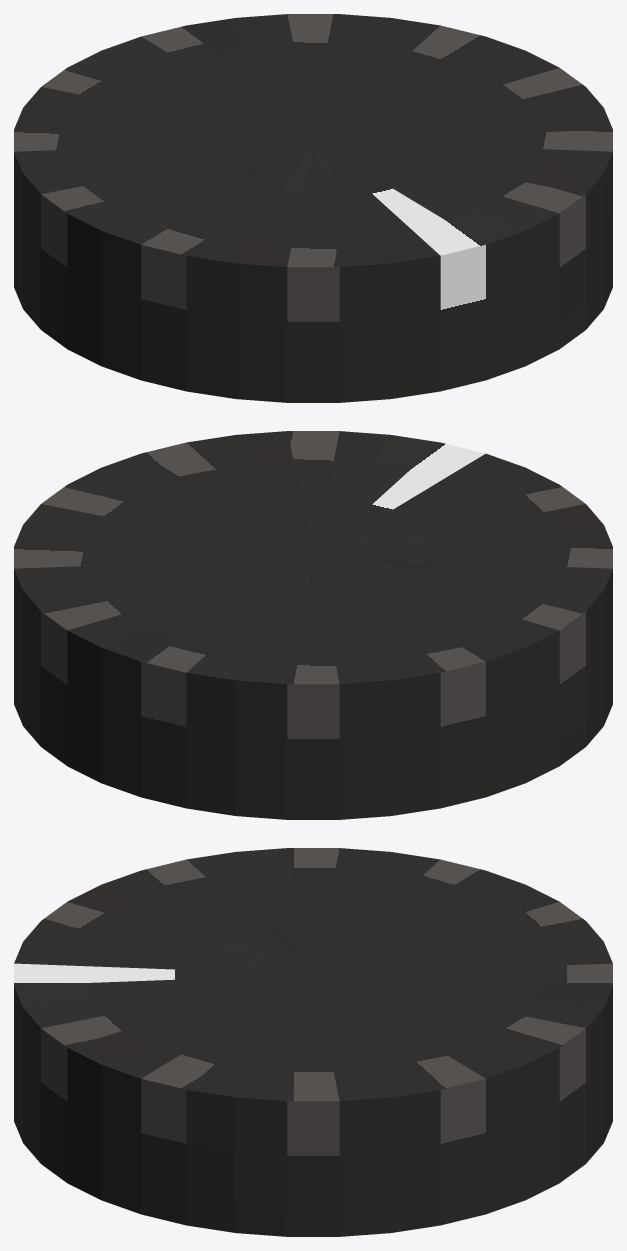
The model's file is small_wave_wheel.gltf.
3 renders of one model, top to bottom at view 1: azimuth 30°, elevation 25°; view 2: azimuth 150°, elevation 25°; view 3: azimuth 270°, elevation 25°, orthographic.
Parts seen in each view (by area): view 1: circle; view 2: circle; view 3: circle.
Boxes of the visible parts, x1,y1,x2,y2 form: circle: [14, 14, 612, 402]; circle: [14, 431, 612, 819]; circle: [14, 848, 612, 1236].
Bounding box in the file's own units: 0.625 × 0.1562 × 0.625.
Materials: 1 (1 with a texture image).
